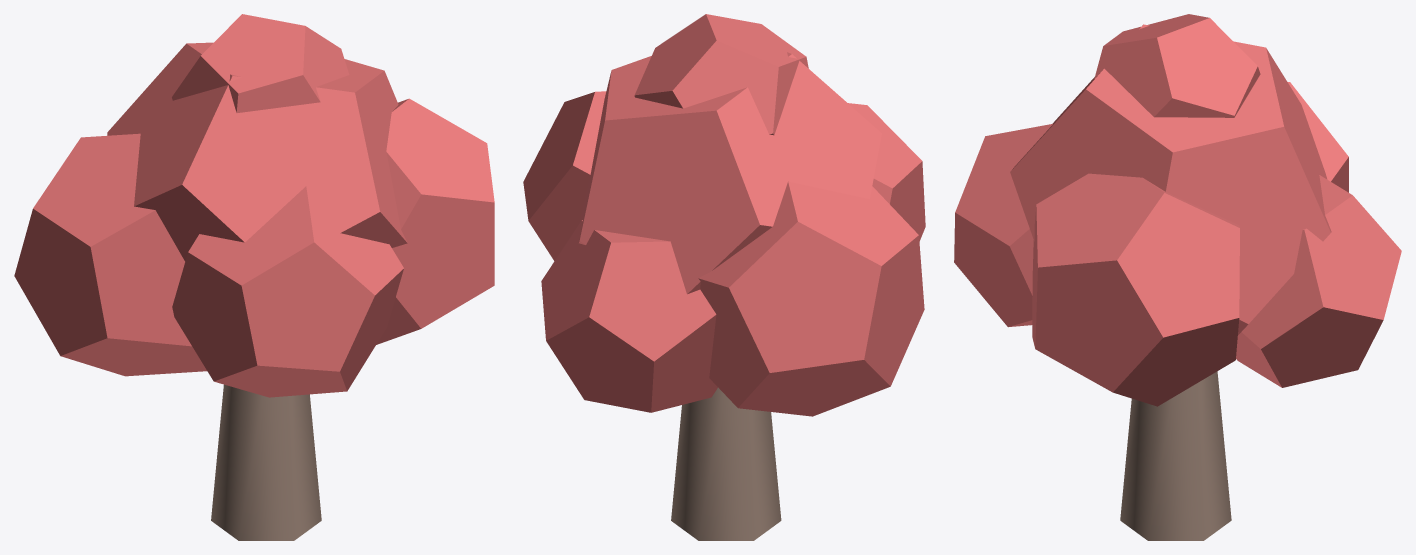
Rendered from alberello_lowpoly_rosso.glb.
The picture shows the model from 3 angles, left to right: view 1: azimuth 30°, elevation 25°; view 2: azimuth 150°, elevation 25°; view 3: azimuth 270°, elevation 25°; orthographic projection.
Size of the model in its own units: 5.91 by 6.92 by 5.62.
